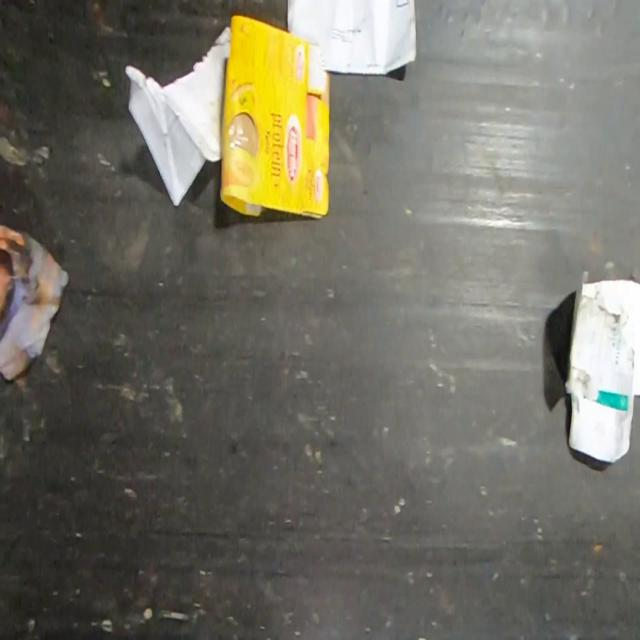cardboard: (219, 13, 331, 220)
